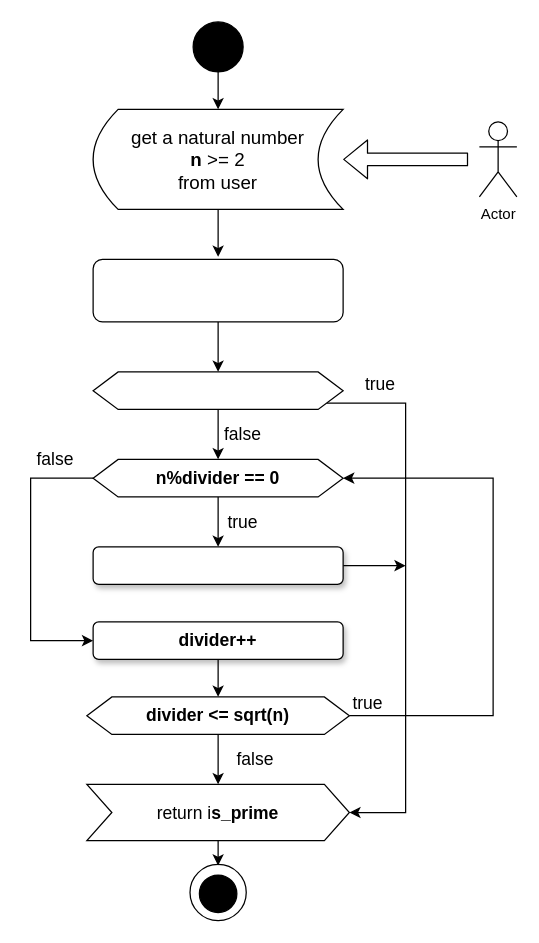
This 539x943 diagram has some shape labels left out. Each missing label, with the centre of its shape:
"create bool value is_prime = true and int divider = 2" goes at point 217,290.
"is_prime = false" goes at point 219,567.
"n == 2" goes at point 217,390.
